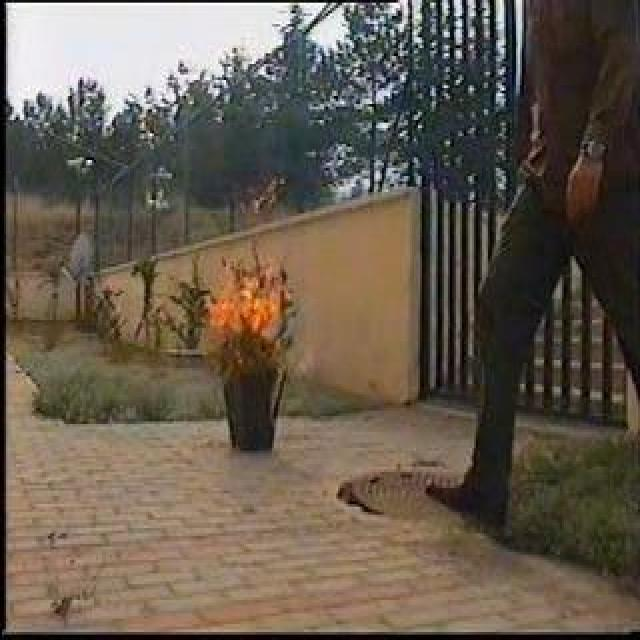fire: (204, 289, 276, 332)
